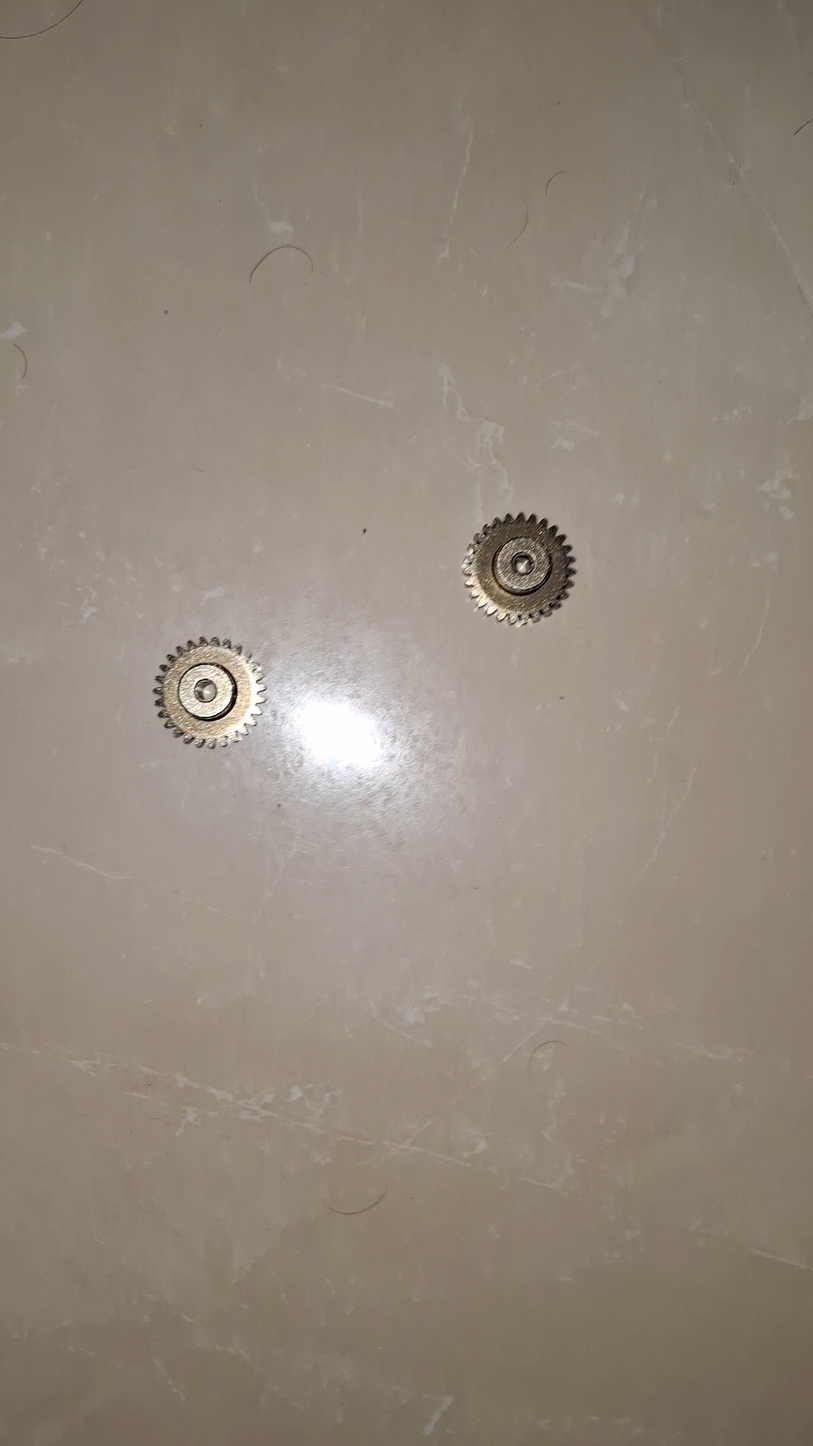spur gear: (460, 517, 571, 628), (152, 639, 263, 749)
